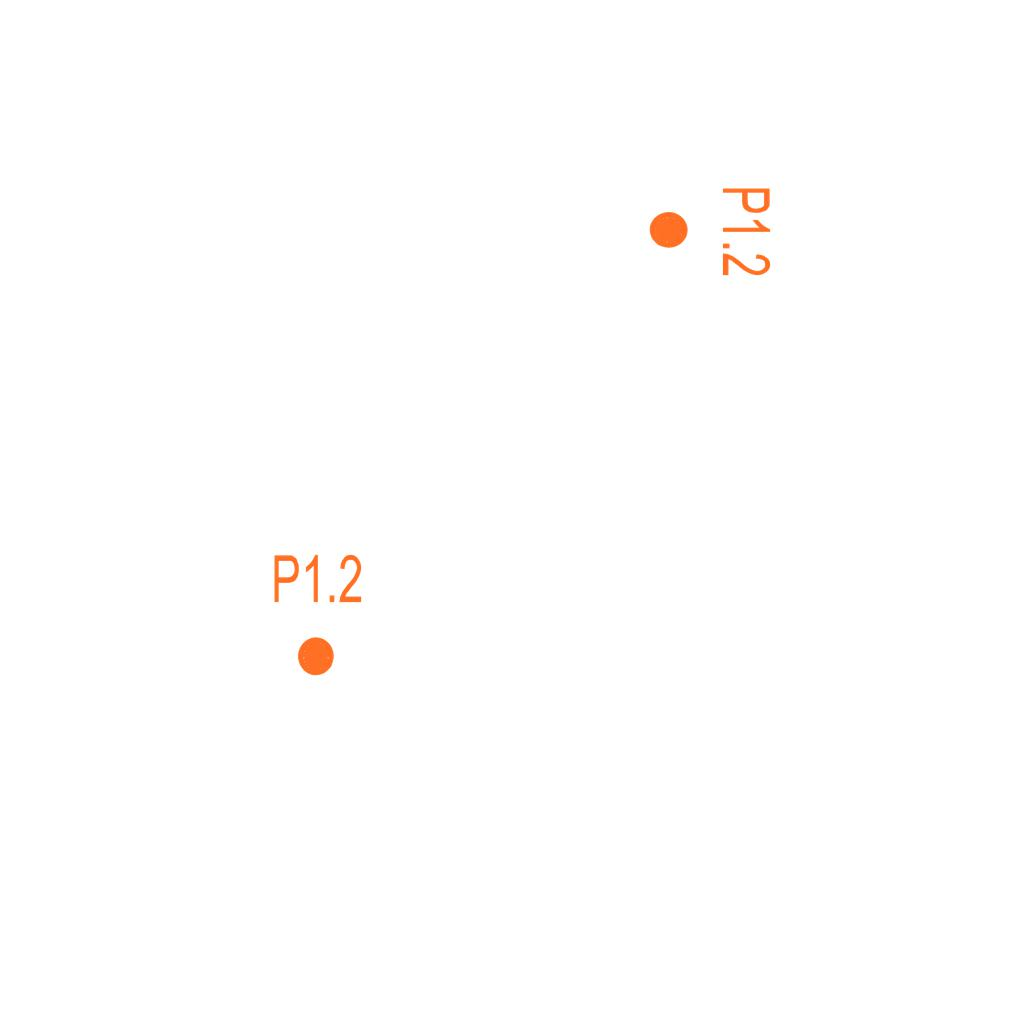Downlight_LED_Einbauleuchten_Flur: (646, 185, 774, 278), (271, 551, 364, 679)
